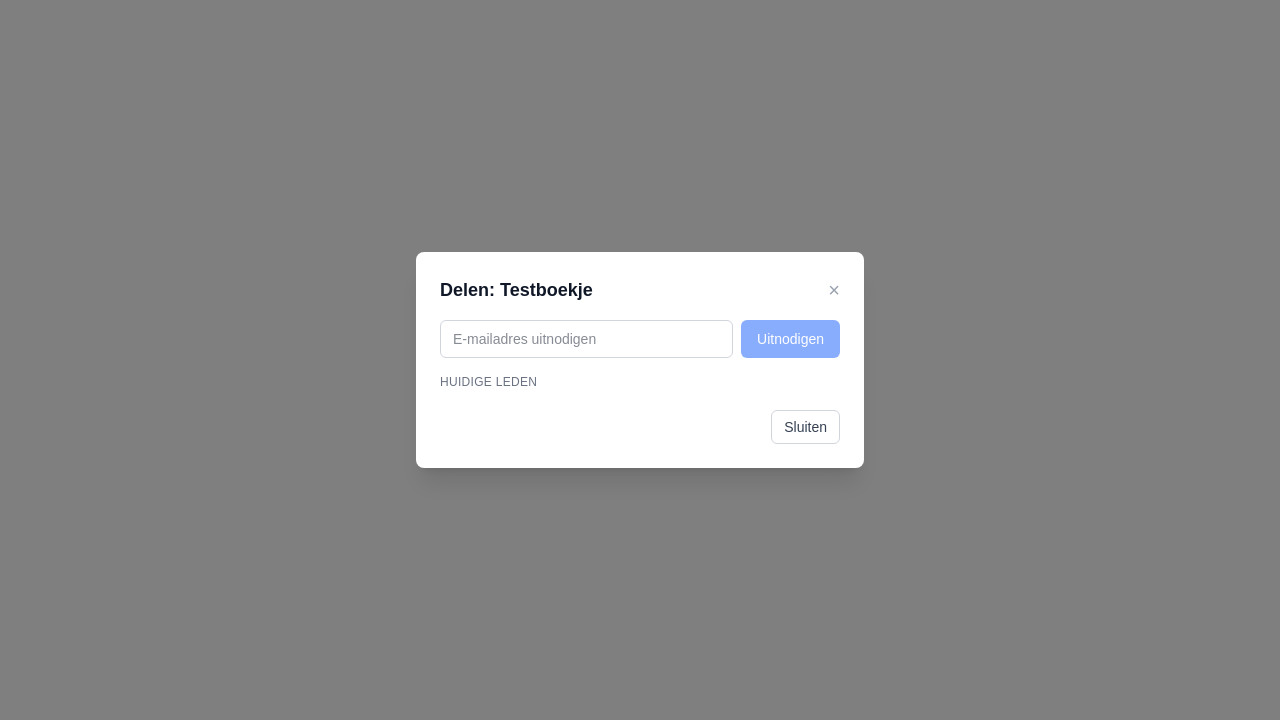
Test: ShareModal › invite flow › shows an error when the entered email does not belong to any user
Type "nobody@example.com" into the field with placeholder "E-mailadres uitnodigen" at (587,339), box [440,320,733,358]
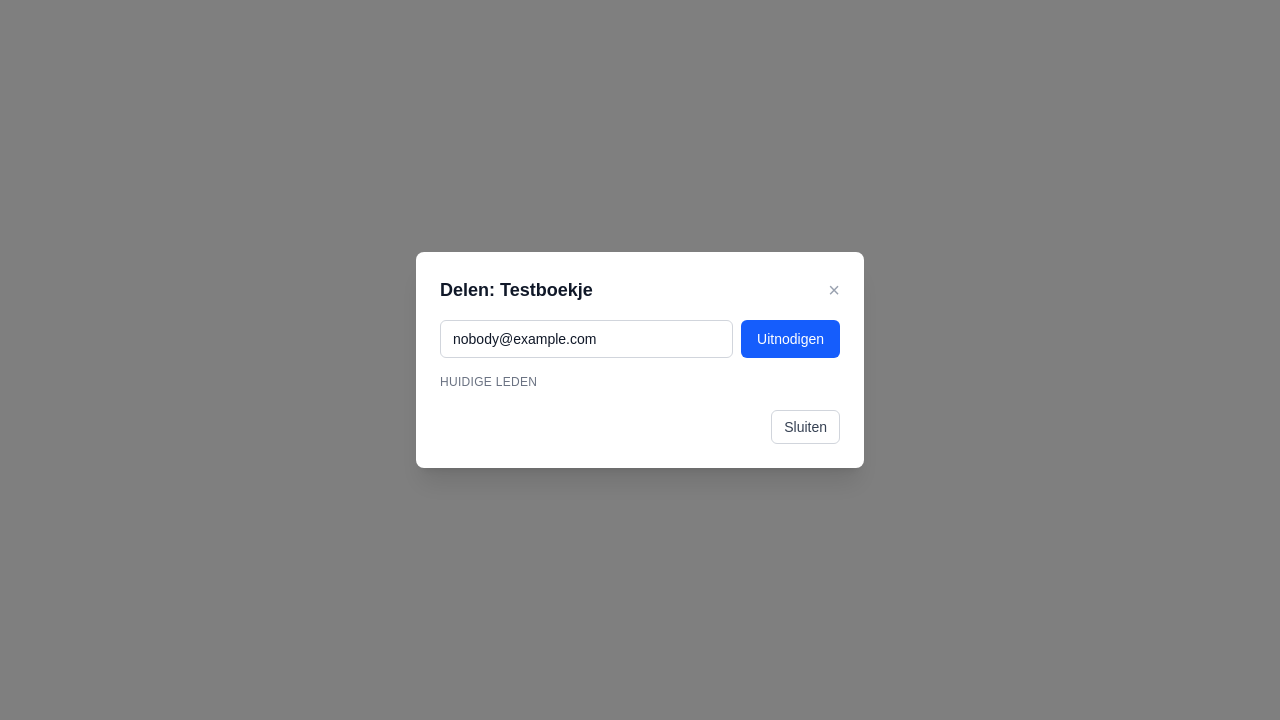
Click the button "Uitnodigen" at (791,339), box [741,320,840,358]
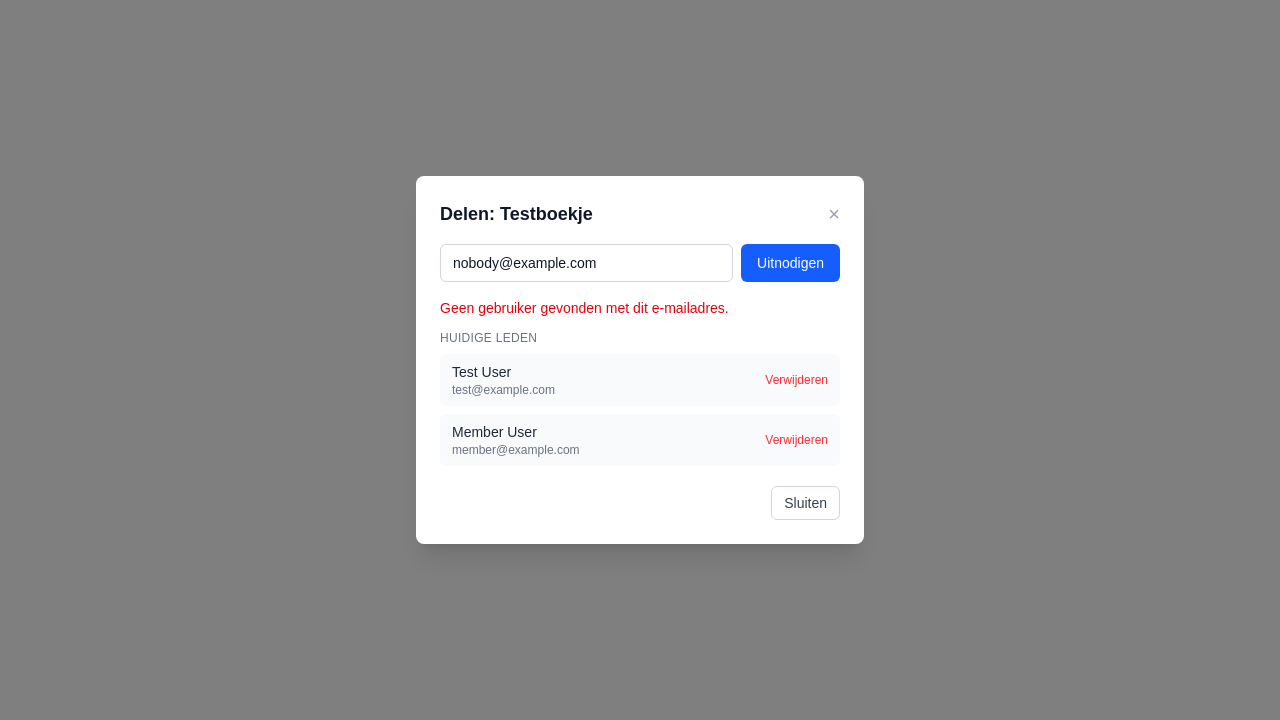
Now the text "Geen gebruiker gevonden met dit e-mailadres." is shown, box [440,300,729,316]
